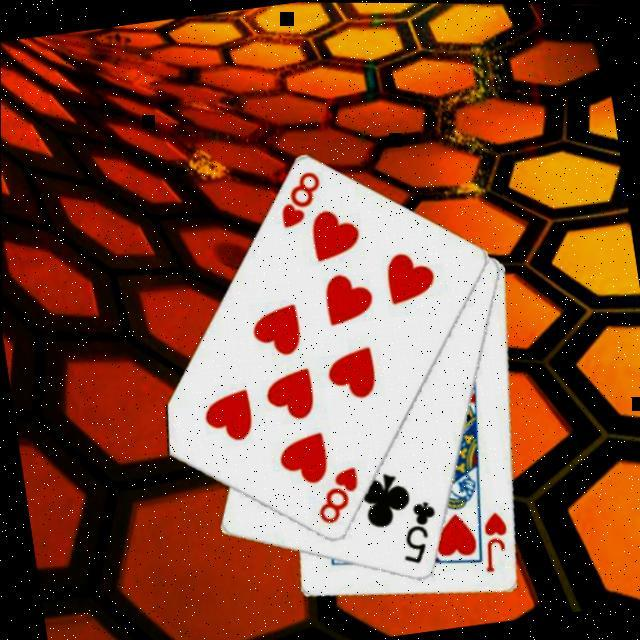5C: (393, 495, 446, 567)
8H: (309, 462, 367, 528), (271, 166, 329, 231)
JH: (475, 506, 516, 574)
